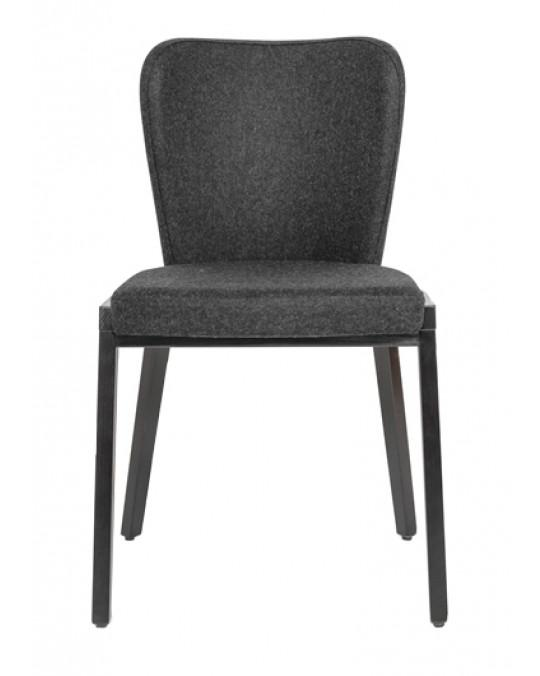chair: (70, 23, 509, 676)
